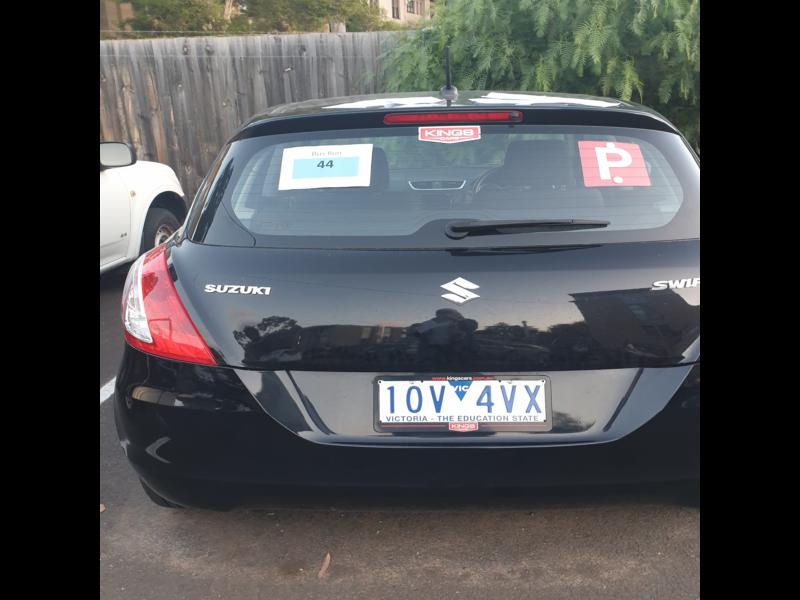BusRun: (423, 138, 491, 157)
PlateNo: (261, 409, 419, 447)
